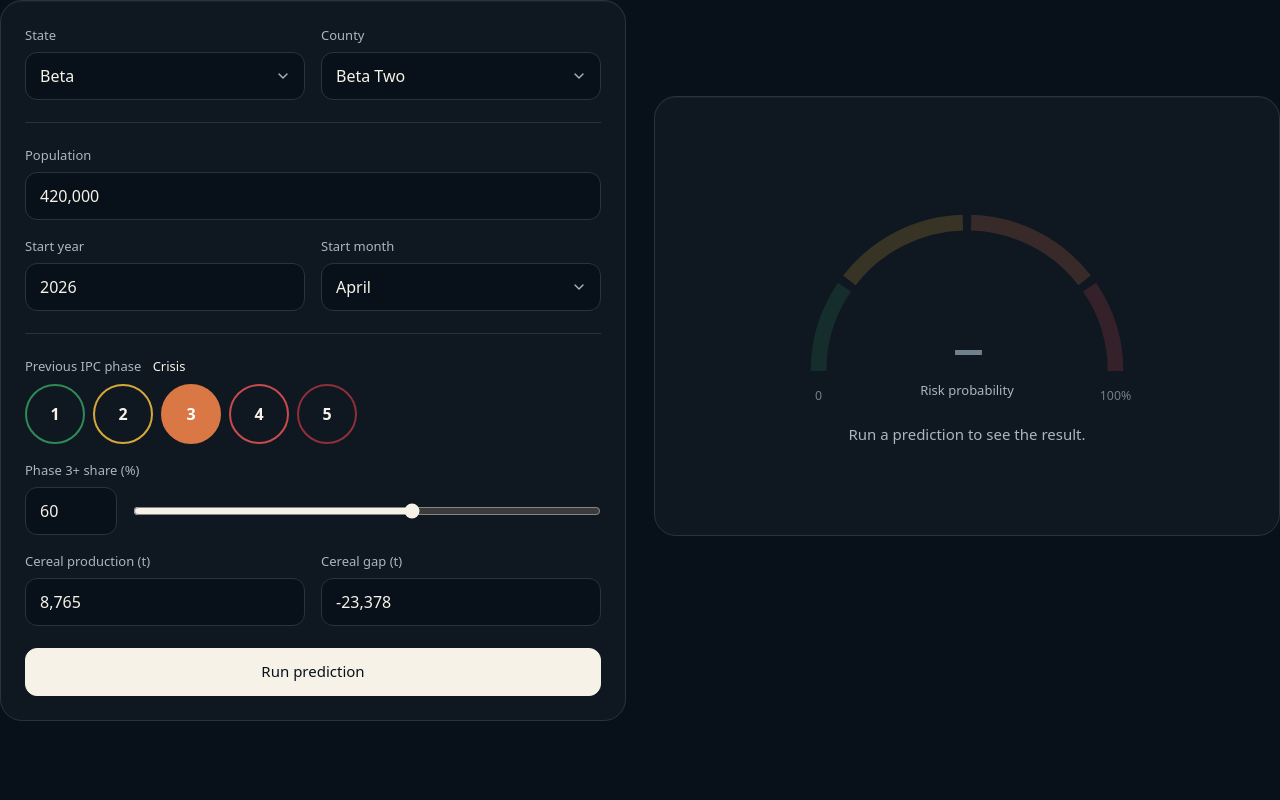
Test case: PredictWorkspace › honours ?county= and changing state resets to that state's first county
expect the dropdown labelled "County" shows "Beta Two": met, box [321, 52, 601, 100]
Step 1. Select "Gamma" in the dropdown labelled "State" → coordinates (165, 76), box [25, 52, 305, 100]
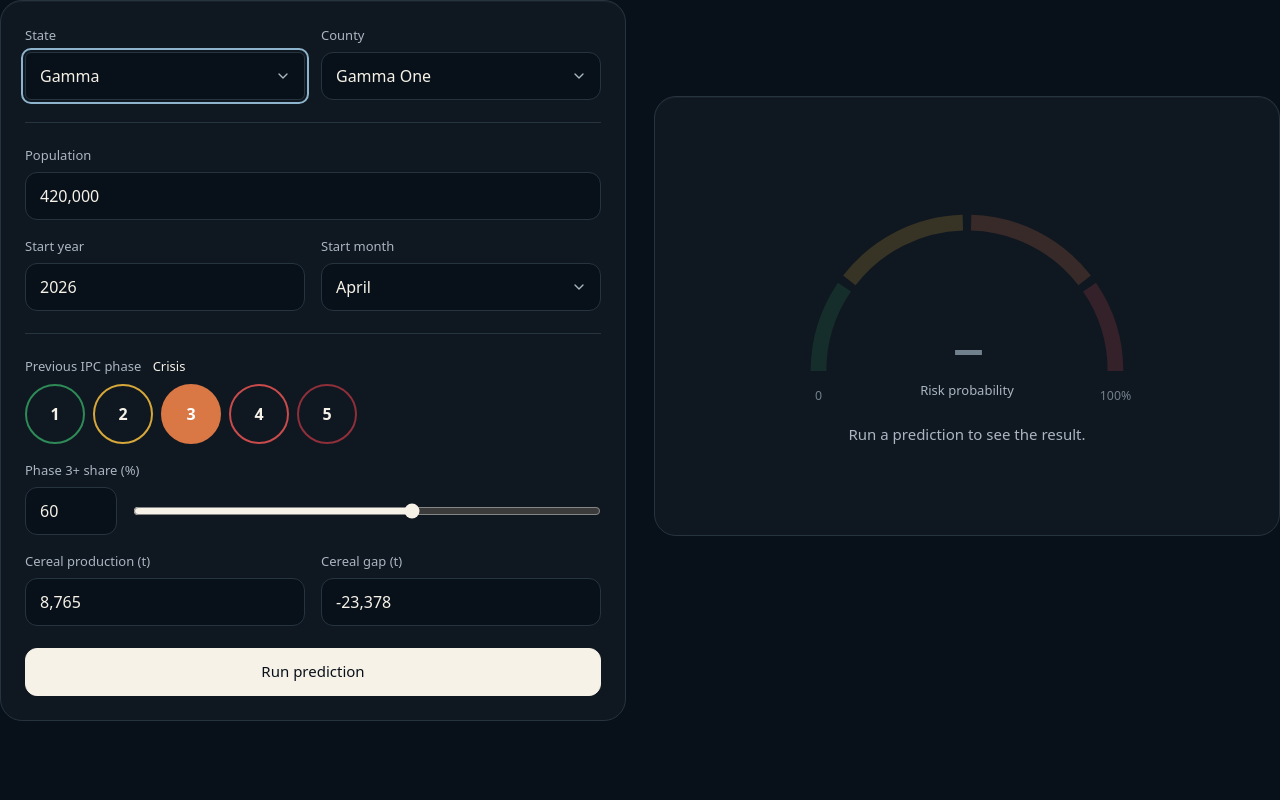
expect the dropdown labelled "County" shows "Gamma One": met, box [321, 52, 601, 100]
